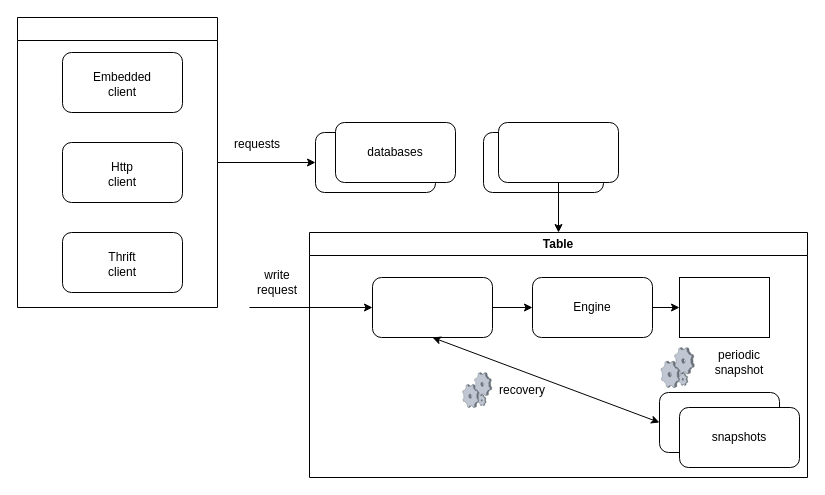
Image size: 825x495. Some labels were removed from this diagram. The shapes that lost their labels are listed below. From the top down, each one's centre as x and y in pixels, then its label:
At point 117,162: "Clients".
At point 558,152: "tables".
At point 432,307: "WAL".
At point 724,307: "Data on disk".
